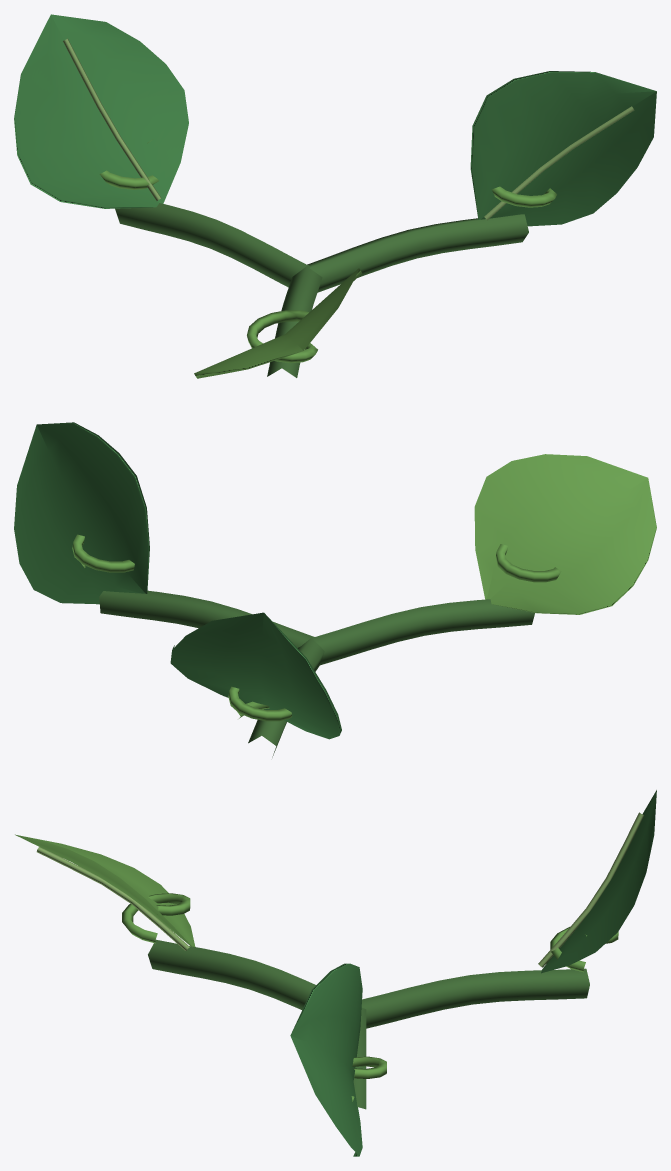
Rendered from calabaza_1.glb.
3 views of the same model, one above another, from view 1: azimuth 30°, elevation 25°; view 2: azimuth 150°, elevation 25°; view 3: azimuth 270°, elevation 25° (orthographic). The views are drawn at different scales.
Visible parts, largest first — view 1: calabaza_1_guias_0; view 2: calabaza_1_guias_0; view 3: calabaza_1_guias_0.
Part boxes in pixels (left/top/right/bottom): calabaza_1_guias_0: left=14, top=14, right=656, bottom=378; calabaza_1_guias_0: left=14, top=422, right=656, bottom=757; calabaza_1_guias_0: left=15, top=790, right=656, bottom=1156.
Bounding box in the file's own units: 0.4755 × 0.1601 × 0.4915.
